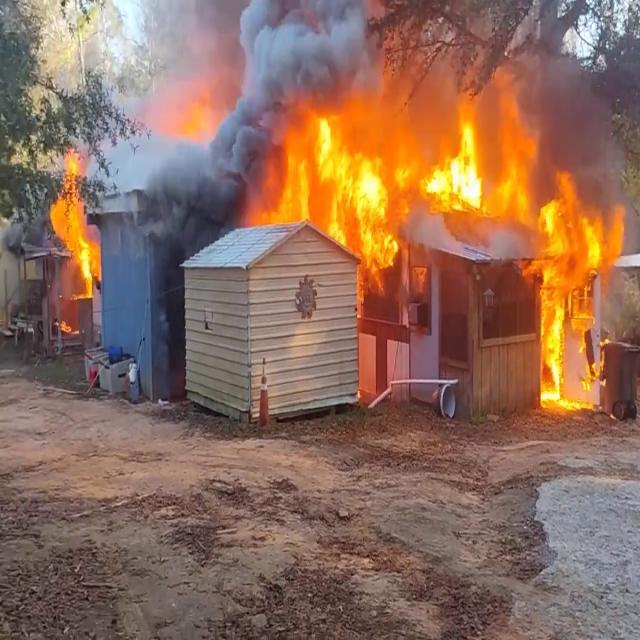Fire: (246, 94, 536, 280), (524, 166, 624, 412), (46, 148, 104, 296)
